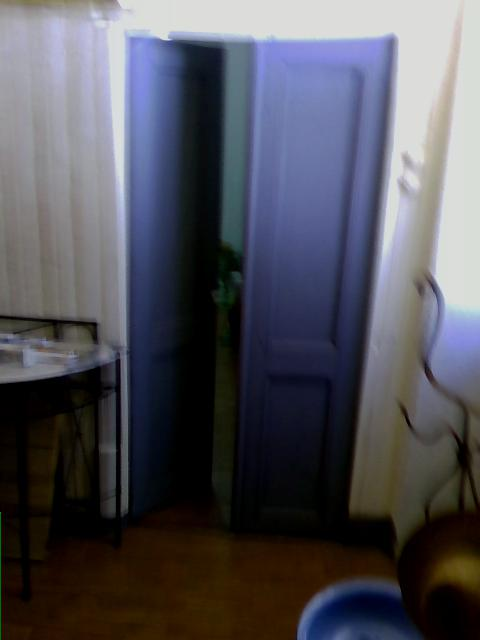semi_door: (127, 29, 400, 548)
